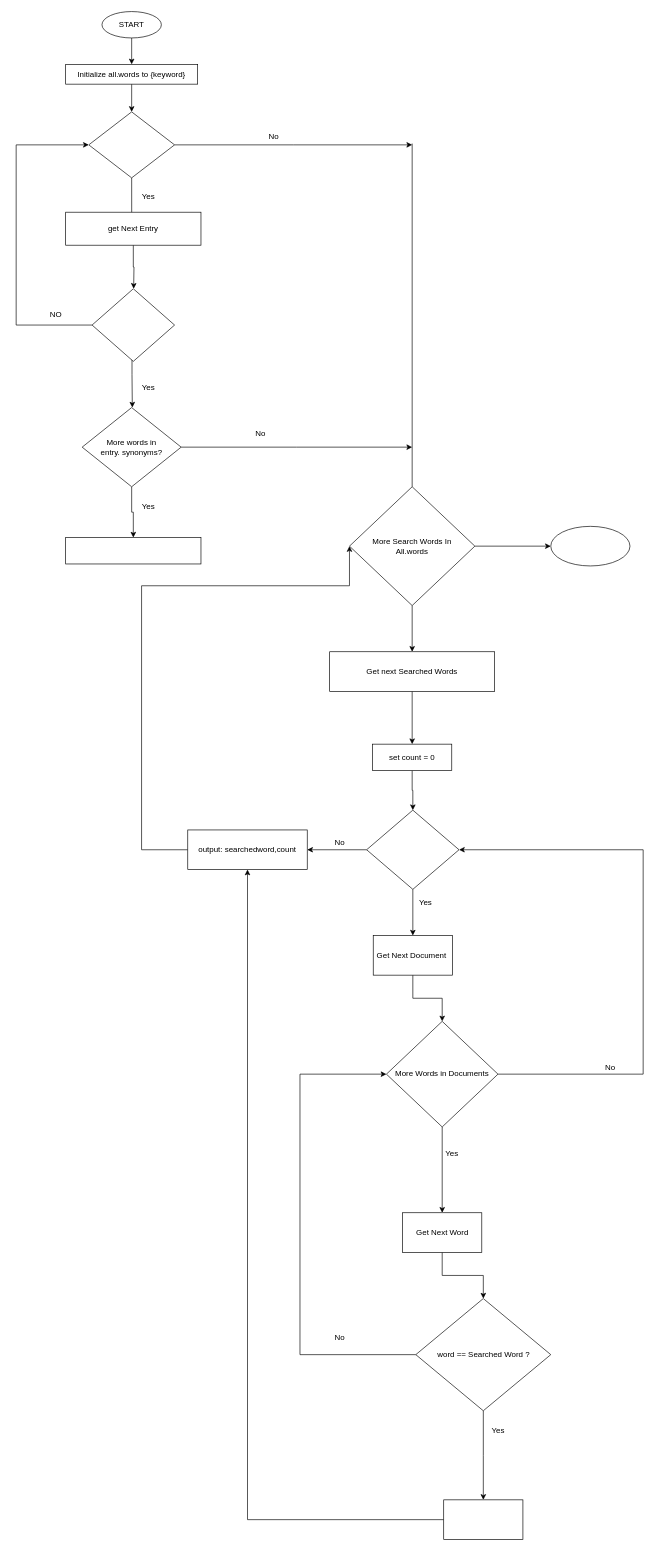
This 660x1551 diagram has some shape labels left out. Each missing label, with the centre of its shape:
Add next word to all.words: the point at 133,550
Enter.word = keyword ?: the point at 133,324
Increment Counter: the point at 483,1519
More Documents in Corpus: the point at 412,849
More Entries in Thesaurus ?: the point at 131,144
STOP: the point at 590,546
